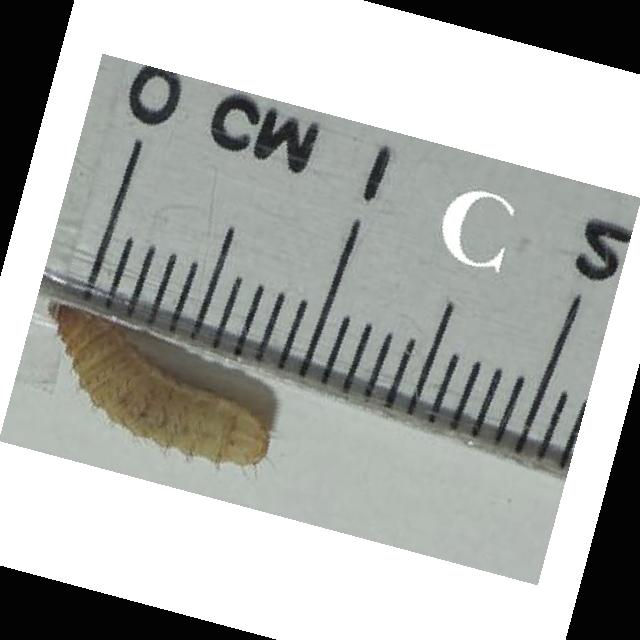Maggot: (38, 303, 265, 473)
